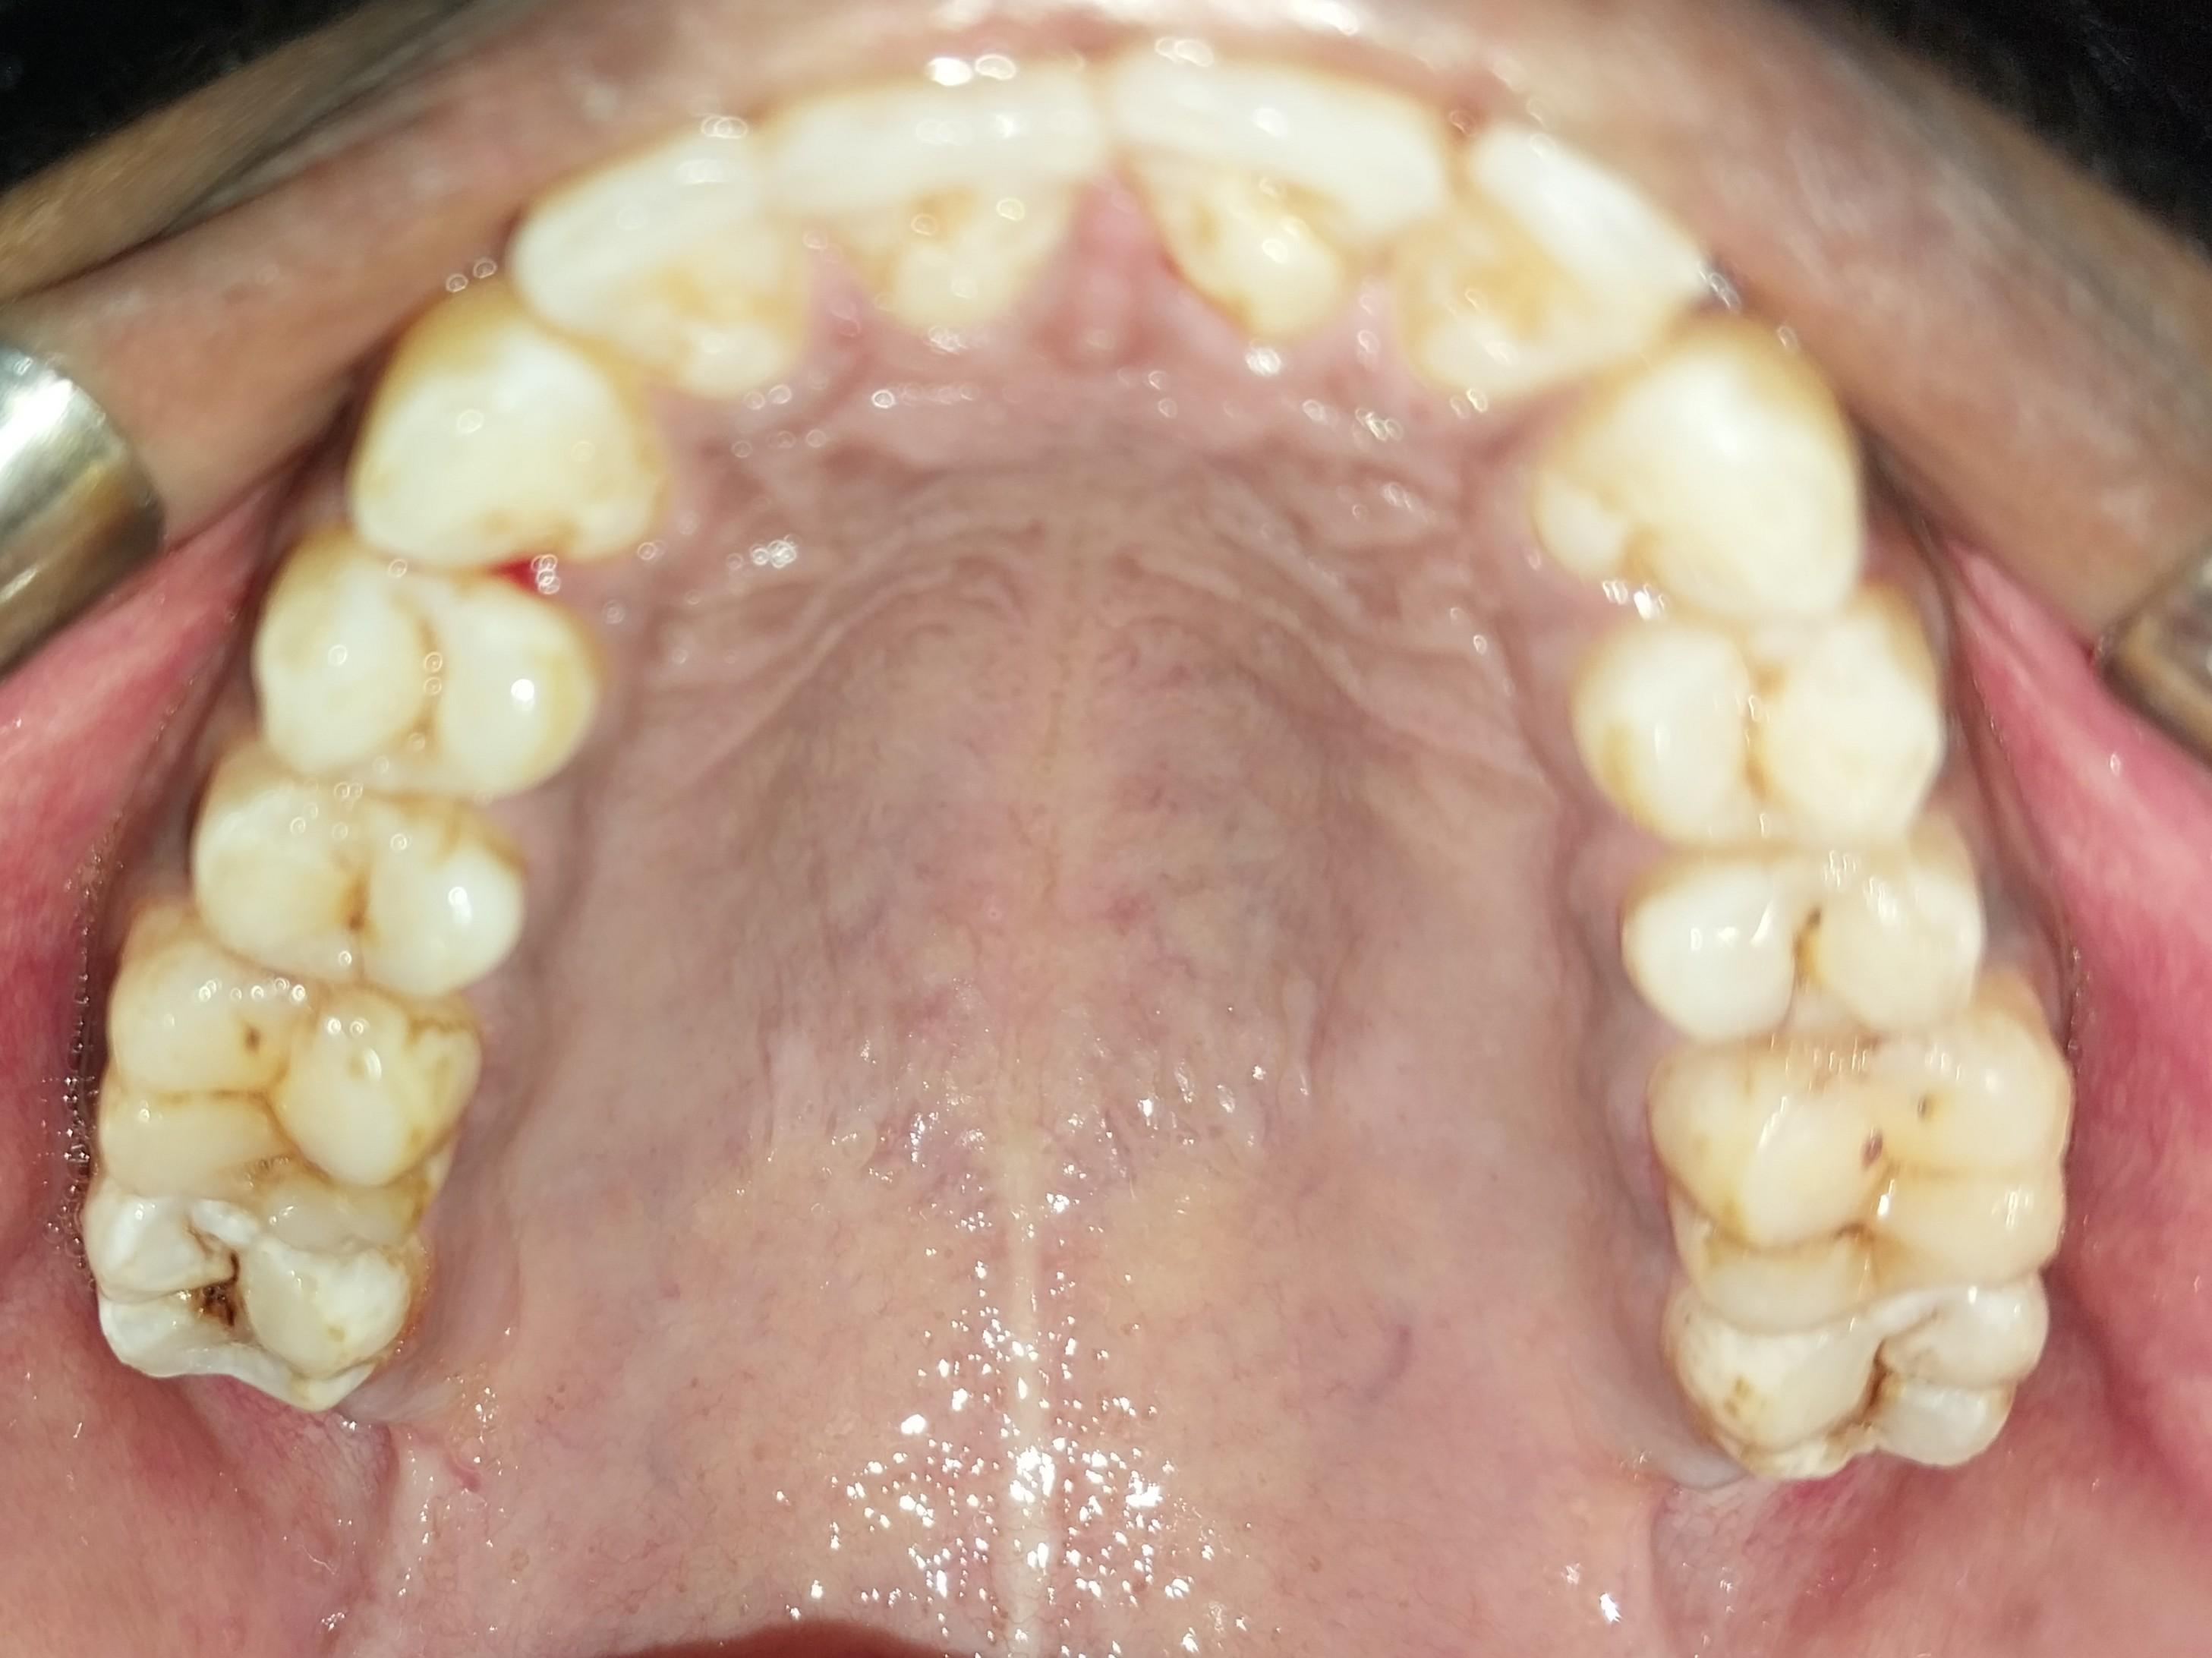D: (1630, 842, 1987, 1047), (77, 1184, 394, 1411), (1673, 1282, 2040, 1474)
